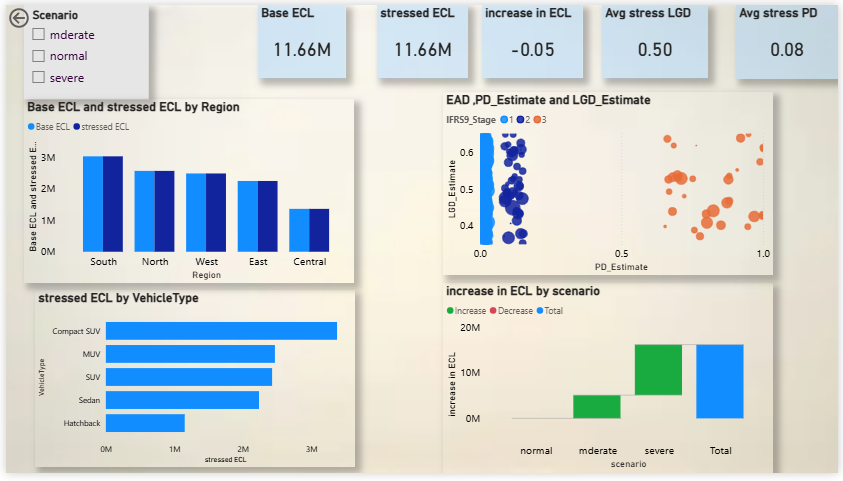

What the dashboard file says about the page in this screenshot:
{"tool":"powerbi","page":{"name":"stress testing","canvas":[1280,720],"ordinal":6},"visuals":[{"type":"slicer","fields":{"Values":["stress scenario.scenario"]},"box":[28.3,0,191.7,145],"z":0},{"type":"kpi","title":"Avg stress PD ","fields":{"TrendLine":["loans.PoolID"],"Indicator":["stress scenario.Avg stress PD"]},"box":[1123.2,0,157,113.8],"z":1000},{"type":"kpi","title":"Avg stress LGD ","fields":{"Indicator":["stress scenario.Avg stress LGD"],"TrendLine":["loans.PoolID"]},"box":[916.7,0,163.3,113.3],"z":2000},{"type":"kpi","title":"increase in ECL ","fields":{"Indicator":["stress scenario.increase in ECL"],"TrendLine":["loans.PoolID"]},"box":[731.7,0,155,113.3],"z":3000},{"type":"kpi","title":"stressed ECL ","fields":{"Indicator":["stress scenario.stressed ECL"],"TrendLine":["loans.PoolID"]},"box":[570,0,140,113.3],"z":4000},{"type":"kpi","title":"Base ECL ","fields":{"Indicator":["stress scenario.Base ECL"],"TrendLine":["loans.PoolID"]},"box":[388.3,0,135,113.3],"z":5000},{"type":"clusteredColumnChart","fields":{"Y":["stress scenario.Base ECL","stress scenario.stressed ECL"],"Category":["loans.Region"]},"box":[28.3,145,508.3,283.3],"z":6000},{"type":"barChart","fields":{"Category":["loans.VehicleType"],"Y":["stress scenario.stressed ECL"]},"box":[45,438.3,491.7,271.7],"z":7000},{"type":"scatterChart","title":"EAD ,PD_Estimate and LGD_Estimate","fields":{"Y":["loans.LGD_Estimate"],"X":["loans.PD_Estimate"],"Size":["Sum(loans.EAD)"],"Series":["loans.IFRS9_Stage"]},"box":[671.7,133.3,508.3,281.7],"z":8000},{"type":"waterfallChart","fields":{"Category":["stress scenario.scenario"],"Y":["stress scenario.increase in ECL"]},"box":[671.7,428.3,508.3,291.7],"z":9000},{"type":"actionButton","box":[0,0,100,40],"z":10000}]}

Visuals, with their boxes in screenshot pixels (x1, y1, x2, y2), scaled from the page's 1280x720 canvas onto the 843x481 screenshot:
slicer - stress scenario.scenario: box(19, 0, 145, 97)
"Avg stress PD " kpi: box(740, 0, 842, 76)
"Avg stress LGD " kpi: box(604, 0, 711, 76)
"increase in ECL " kpi: box(482, 0, 584, 76)
"stressed ECL " kpi: box(375, 0, 468, 76)
"Base ECL " kpi: box(256, 0, 345, 76)
clusteredColumnChart - stress scenario.Base ECL x stress scenario.stressed ECL: box(19, 97, 353, 286)
barChart - loans.VehicleType x stress scenario.stressed ECL: box(30, 293, 353, 474)
"EAD ,PD_Estimate and LGD_Estimate" scatterChart: box(442, 89, 777, 277)
waterfallChart - stress scenario.scenario x stress scenario.increase in ECL: box(442, 286, 777, 480)
actionButton: box(0, 0, 66, 27)
